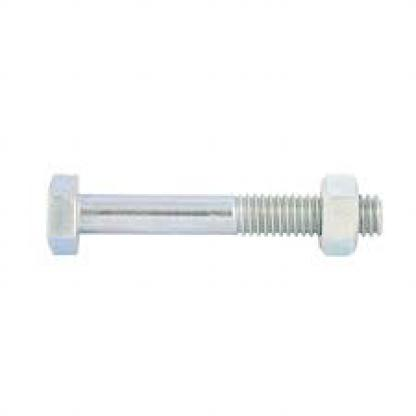METAL: (42, 170, 381, 253), (318, 172, 357, 253)
